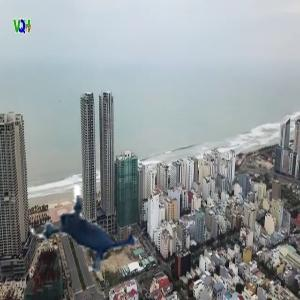drone: (20, 159, 160, 299)
